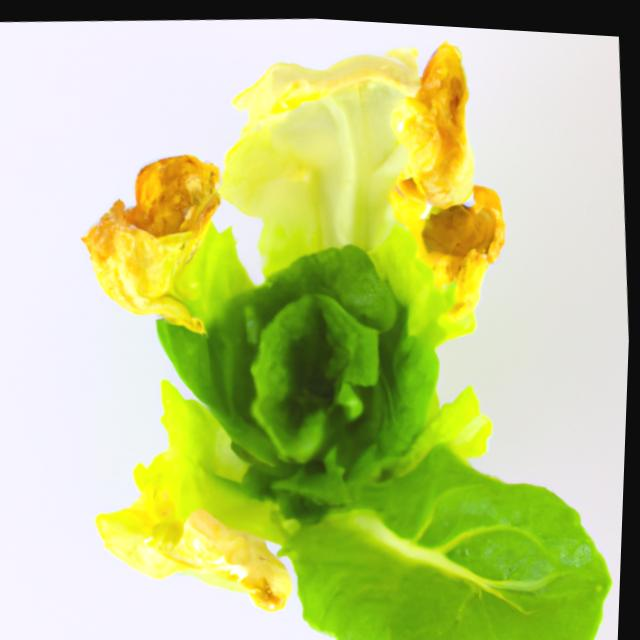-N: (38, 4, 640, 640)
